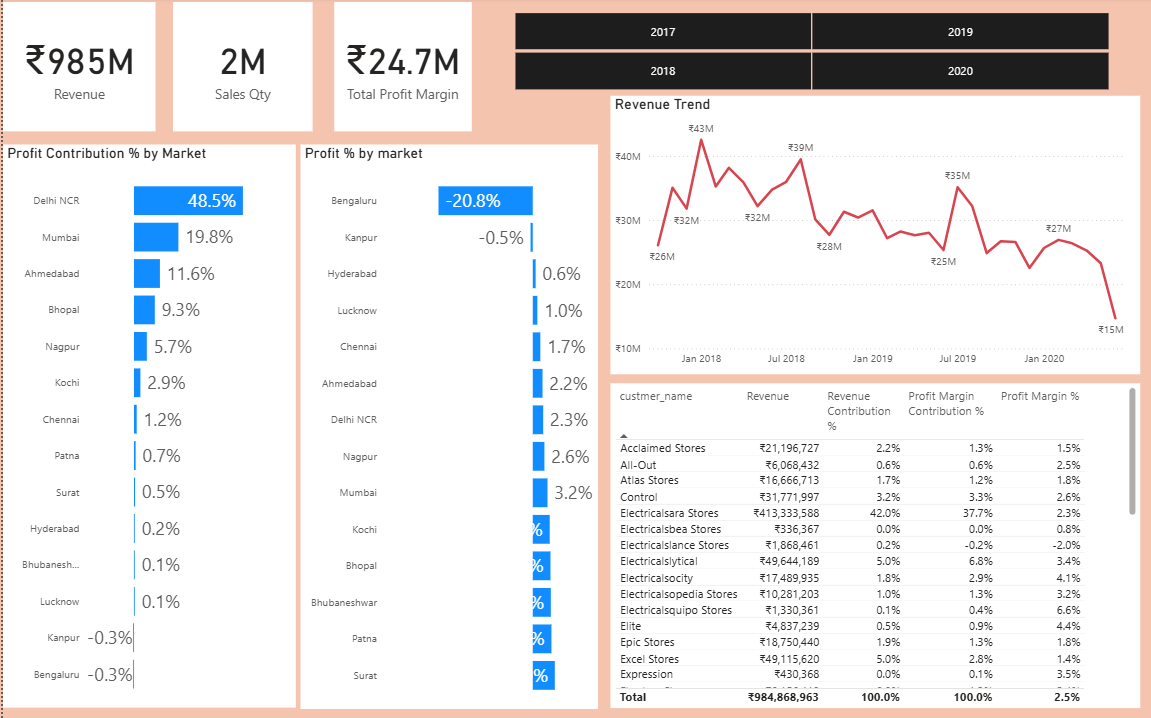

The page's visual inventory and layout, read from the dashboard file:
{"tool":"powerbi","page":{"name":"Profit Analysis","canvas":[1350,850],"ordinal":1},"visuals":[{"type":"card","fields":{"Values":["BaseMeasures (2).Revenue"]},"box":[0,6.1,179.6,152.2],"z":0},{"type":"card","fields":{"Values":["BaseMeasures (2).Sales Qty"]},"box":[199.3,6.1,164.3,152.2],"z":1000},{"type":"barChart","title":"Profit % by market","fields":{"Y":["BaseMeasures (2).Profit Margin %"],"Category":["sales markets.markets_name"]},"box":[350,173.5,350,663.4],"z":2000},{"type":"barChart","title":"Profit Contribution % by Market","fields":{"Y":["BaseMeasures (2).Profit Margin Contribution %"],"Category":["sales markets.markets_name"]},"box":[0,173.5,343.9,661.9],"z":3000},{"type":"slicer","fields":{"Values":["sales date.year"]},"box":[575.2,12.2,747.1,103.5],"z":4000},{"type":"tableEx","title":"Top 5 Customers","fields":{"Values":["sales customers.custmer_name","BaseMeasures (2).Revenue","BaseMeasures (2).Revenue Contribution %","BaseMeasures (2).Profit Margin Contribution %","BaseMeasures (2).Profit Margin %"]},"box":[713.7,453.8,622.7,381.8],"z":6000},{"type":"lineChart","title":"Revenue Trend","fields":{"Y":["BaseMeasures (2).Revenue"],"Category":["sales date.cy_date"]},"box":[713.7,115.6,622.4,327.2],"z":7000},{"type":"card","fields":{"Values":["BaseMeasures (2).Total Profit Margin"]},"box":[389.5,6.1,161.3,152.2],"z":8000}]}

Visuals, with their boxes in screenshot pixels (x1, y1, x2, y2), scaled from the page's 1350x850 canvas onto the 1151x718 screenshot:
card - BaseMeasures (2).Revenue: left=0, top=5, right=153, bottom=134
card - BaseMeasures (2).Sales Qty: left=170, top=5, right=310, bottom=134
"Profit % by market" barChart: left=298, top=147, right=597, bottom=707
"Profit Contribution % by Market" barChart: left=0, top=147, right=293, bottom=706
slicer - sales date.year: left=490, top=10, right=1127, bottom=98
"Top 5 Customers" tableEx: left=608, top=383, right=1139, bottom=706
"Revenue Trend" lineChart: left=608, top=98, right=1139, bottom=374
card - BaseMeasures (2).Total Profit Margin: left=332, top=5, right=470, bottom=134
